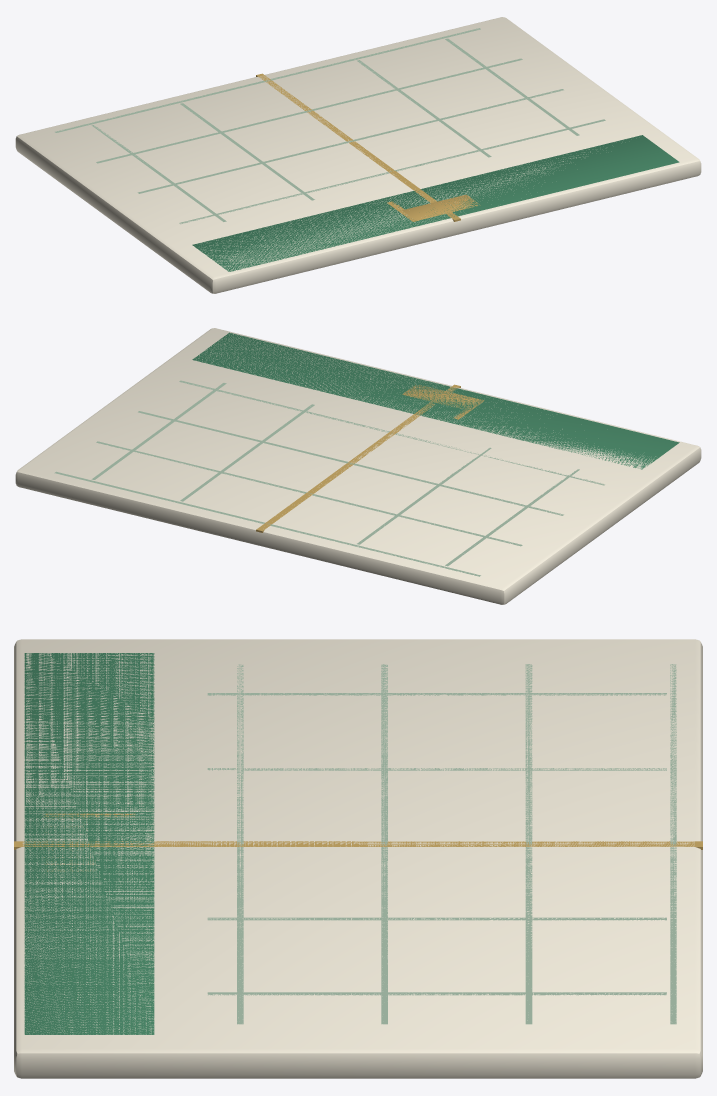
Rendered from checkout_product_scorecard.glb.
3 renders of one model, top to bottom at view 1: azimuth 30°, elevation 25°; view 2: azimuth 150°, elevation 25°; view 3: azimuth 270°, elevation 25°, orthographic. The views are drawn at different scales.
Visible parts, largest first — view 1: ScorecardStock, ScorecardHeader, ScorecardFold, ScorecardGridH_3, ScorecardGridH_2, ScorecardGridH_4, ScorecardGridH_1, ScorecardCrestFlag, ScorecardGridV_4, ScorecardGridV_3, ScorecardGridV_2, ScorecardGridV_1; view 2: ScorecardStock, ScorecardHeader, ScorecardFold, ScorecardGridH_2, ScorecardGridH_4, ScorecardGridH_3, ScorecardCrestFlag, ScorecardGridH_1, ScorecardGridV_3, ScorecardGridV_4, ScorecardGridV_1, ScorecardGridV_2; view 3: ScorecardStock, ScorecardHeader, ScorecardFold, ScorecardGridH_3, ScorecardGridH_2, ScorecardGridH_4, ScorecardGridH_1, ScorecardGridV_3, ScorecardGridV_4, ScorecardGridV_2, ScorecardGridV_1.
Part boxes in pixels (box(x1,y1,x2,y2)): ScorecardStock: box(15, 17, 701, 293); ScorecardHeader: box(192, 135, 679, 271); ScorecardFold: box(256, 73, 460, 221); ScorecardGridH_3: box(96, 58, 522, 163); ScorecardGridH_2: box(137, 89, 563, 193); ScorecardGridH_4: box(55, 28, 480, 132); ScorecardGridH_1: box(179, 119, 605, 224); ScorecardCrestFlag: box(402, 194, 480, 220); ScorecardGridV_4: box(445, 38, 579, 135); ScorecardGridV_3: box(357, 60, 491, 157); ScorecardGridV_2: box(180, 103, 314, 200); ScorecardGridV_1: box(91, 125, 226, 221); ScorecardStock: box(15, 328, 701, 604); ScorecardHeader: box(192, 332, 679, 469); ScorecardFold: box(256, 384, 460, 532); ScorecardGridH_2: box(138, 411, 563, 515); ScorecardGridH_4: box(54, 471, 480, 576); ScorecardGridH_3: box(96, 441, 522, 546); ScorecardCrestFlag: box(402, 385, 480, 409); ScorecardGridH_1: box(179, 380, 604, 485); ScorecardGridV_3: box(180, 404, 314, 501); ScorecardGridV_4: box(91, 383, 226, 479); ScorecardGridV_1: box(445, 469, 579, 566); ScorecardGridV_2: box(357, 447, 491, 544); ScorecardStock: box(14, 639, 702, 1078); ScorecardHeader: box(24, 653, 154, 1034); ScorecardFold: box(14, 841, 702, 849); ScorecardGridH_3: box(525, 664, 532, 1024); ScorecardGridH_2: box(381, 664, 387, 1024); ScorecardGridH_4: box(670, 664, 676, 1024); ScorecardGridH_1: box(237, 664, 243, 1024); ScorecardGridV_3: box(207, 917, 666, 920); ScorecardGridV_4: box(207, 992, 666, 995); ScorecardGridV_2: box(207, 768, 666, 770); ScorecardGridV_1: box(207, 693, 666, 695).
Bounding box in the file's own units: 0.15 × 0.005 × 0.105.
